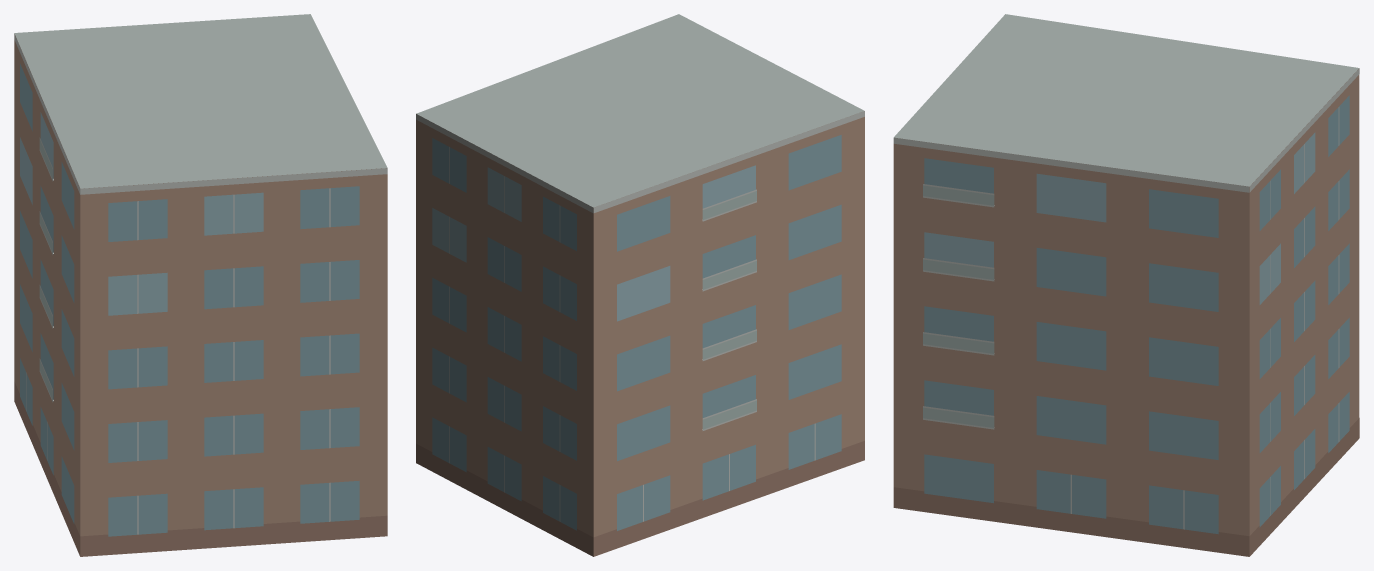
File: survey-upis-32990785.glb
3 views of the same model, side by side, from view 1: azimuth 30°, elevation 25°; view 2: azimuth 150°, elevation 25°; view 3: azimuth 270°, elevation 25° (orthographic). The views are drawn at different scales.
Visible parts, largest first — view 1: survey-upis-32990785.tmp; view 2: survey-upis-32990785.tmp; view 3: survey-upis-32990785.tmp.
Boxes of the visible parts, left/top/right/bottom form: survey-upis-32990785.tmp: left=14, top=14, right=387, bottom=556; survey-upis-32990785.tmp: left=416, top=14, right=864, bottom=556; survey-upis-32990785.tmp: left=893, top=14, right=1359, bottom=556.
Size of the model in its own units: 14.61 by 14.6 by 16.66.
